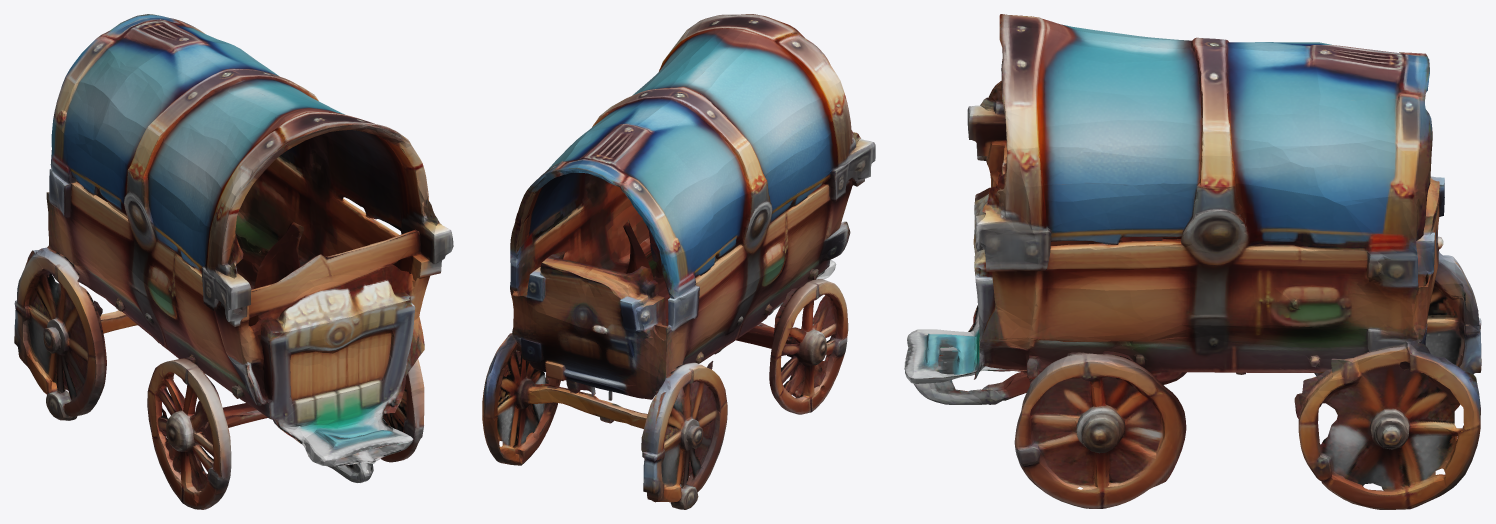
File: temper.glb
The picture shows the model from 3 angles, left to right: view 1: azimuth 30°, elevation 25°; view 2: azimuth 150°, elevation 25°; view 3: azimuth 270°, elevation 25°; orthographic projection. The views are drawn at different scales.
Visible parts, largest first — view 1: world; view 2: world; view 3: world.
Boxes of the visible parts, x1,y1,x2,y2 form: world: (14,14,453,509); world: (482,14,875,509); world: (904,14,1481,509).
Bounding box in the file's own units: 0.5047 × 0.8455 × 1.
1 material, 1 textured.
